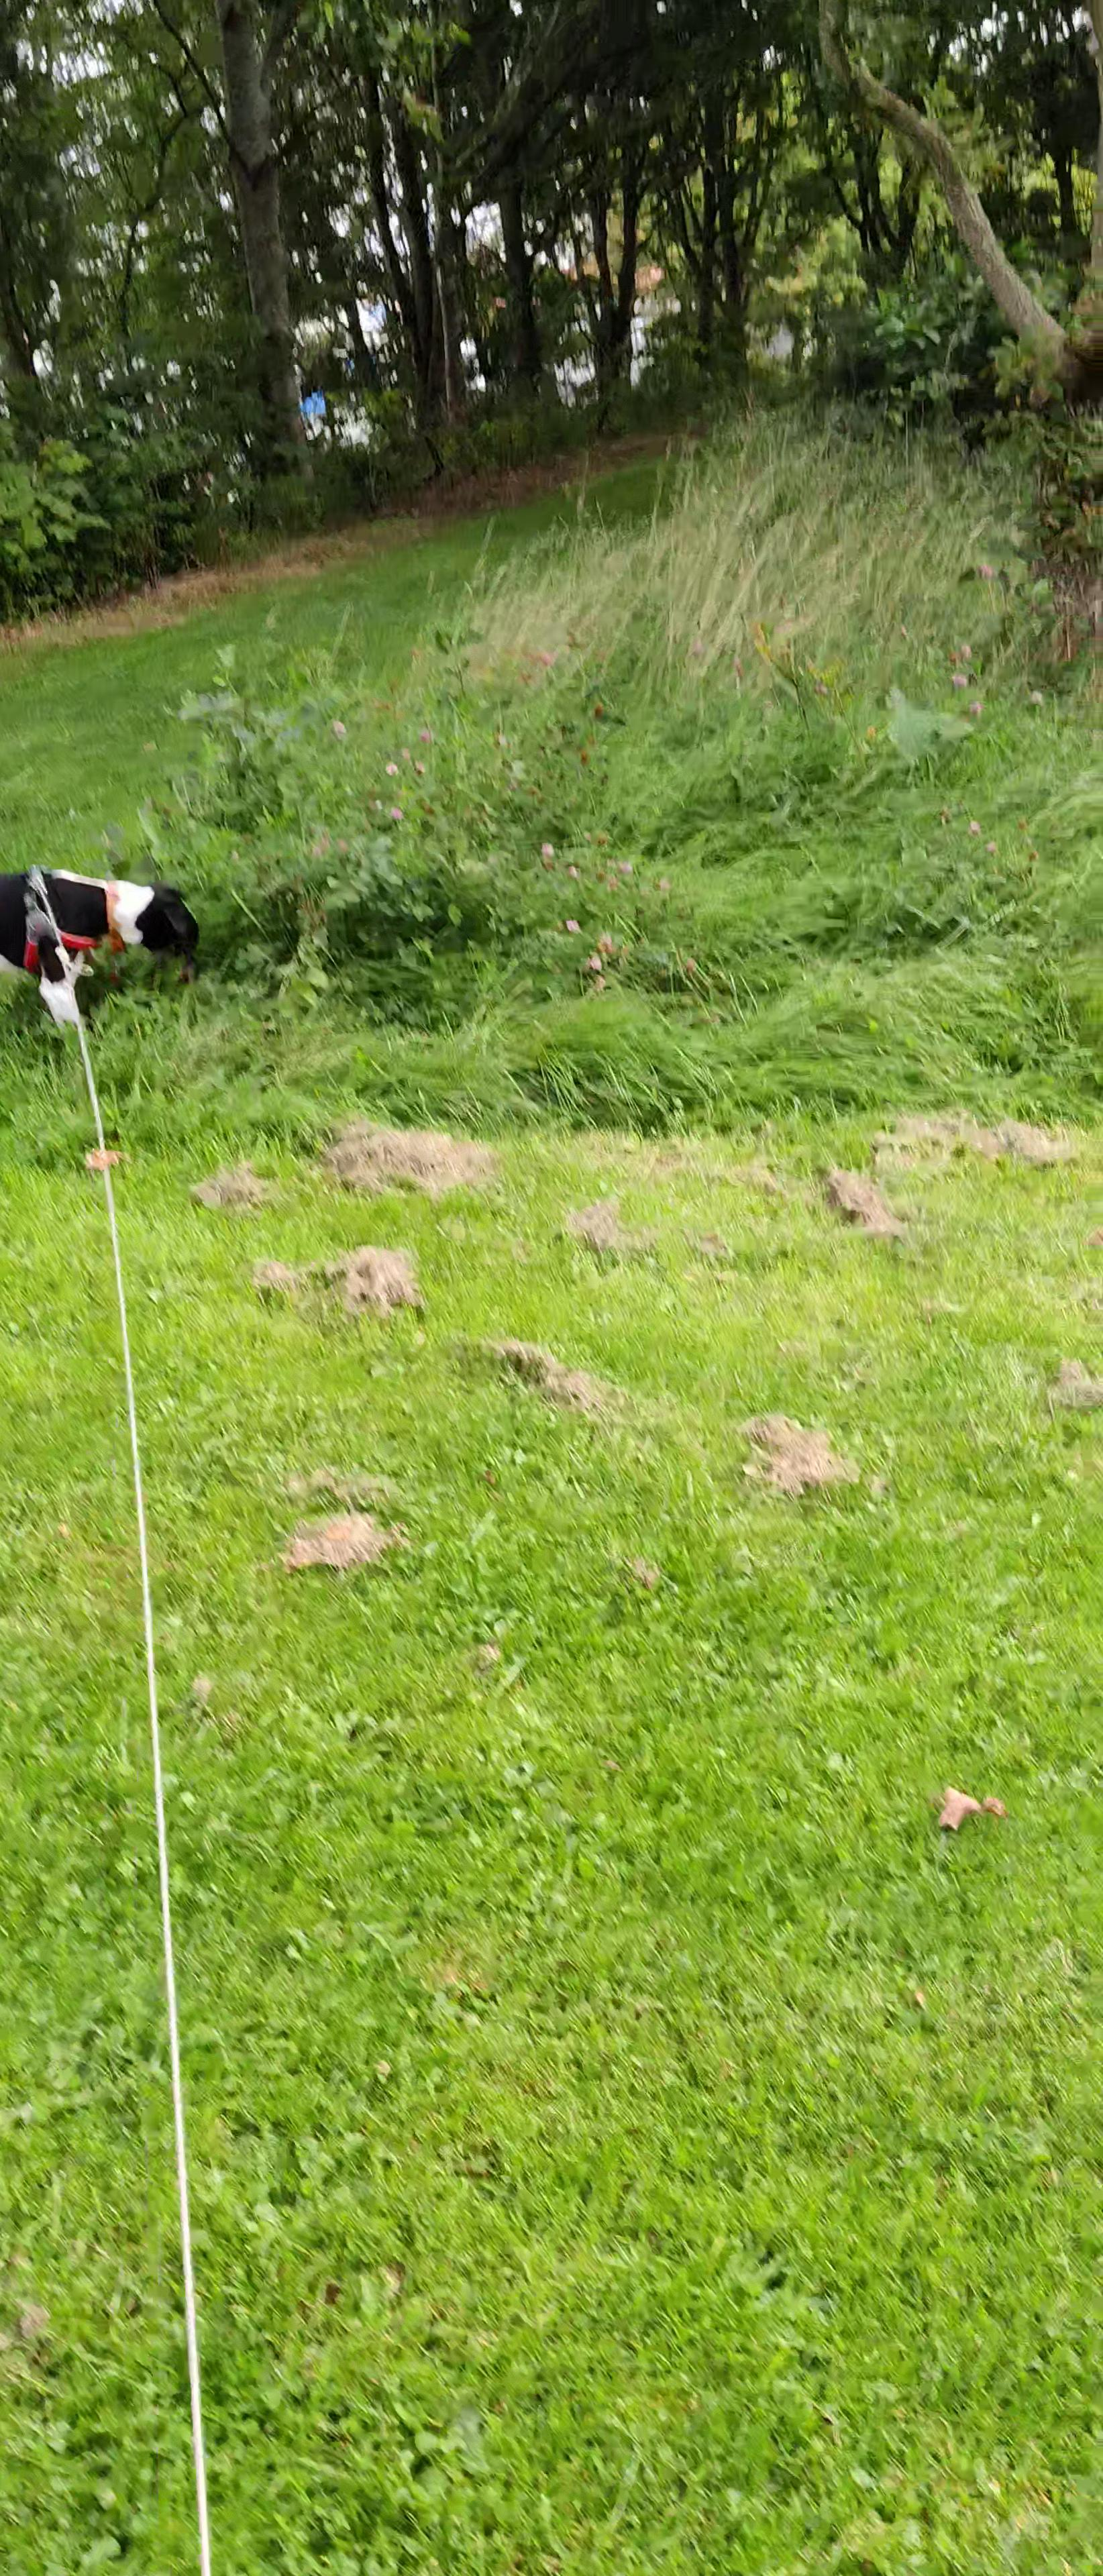Dog: (0, 856, 215, 1043)
